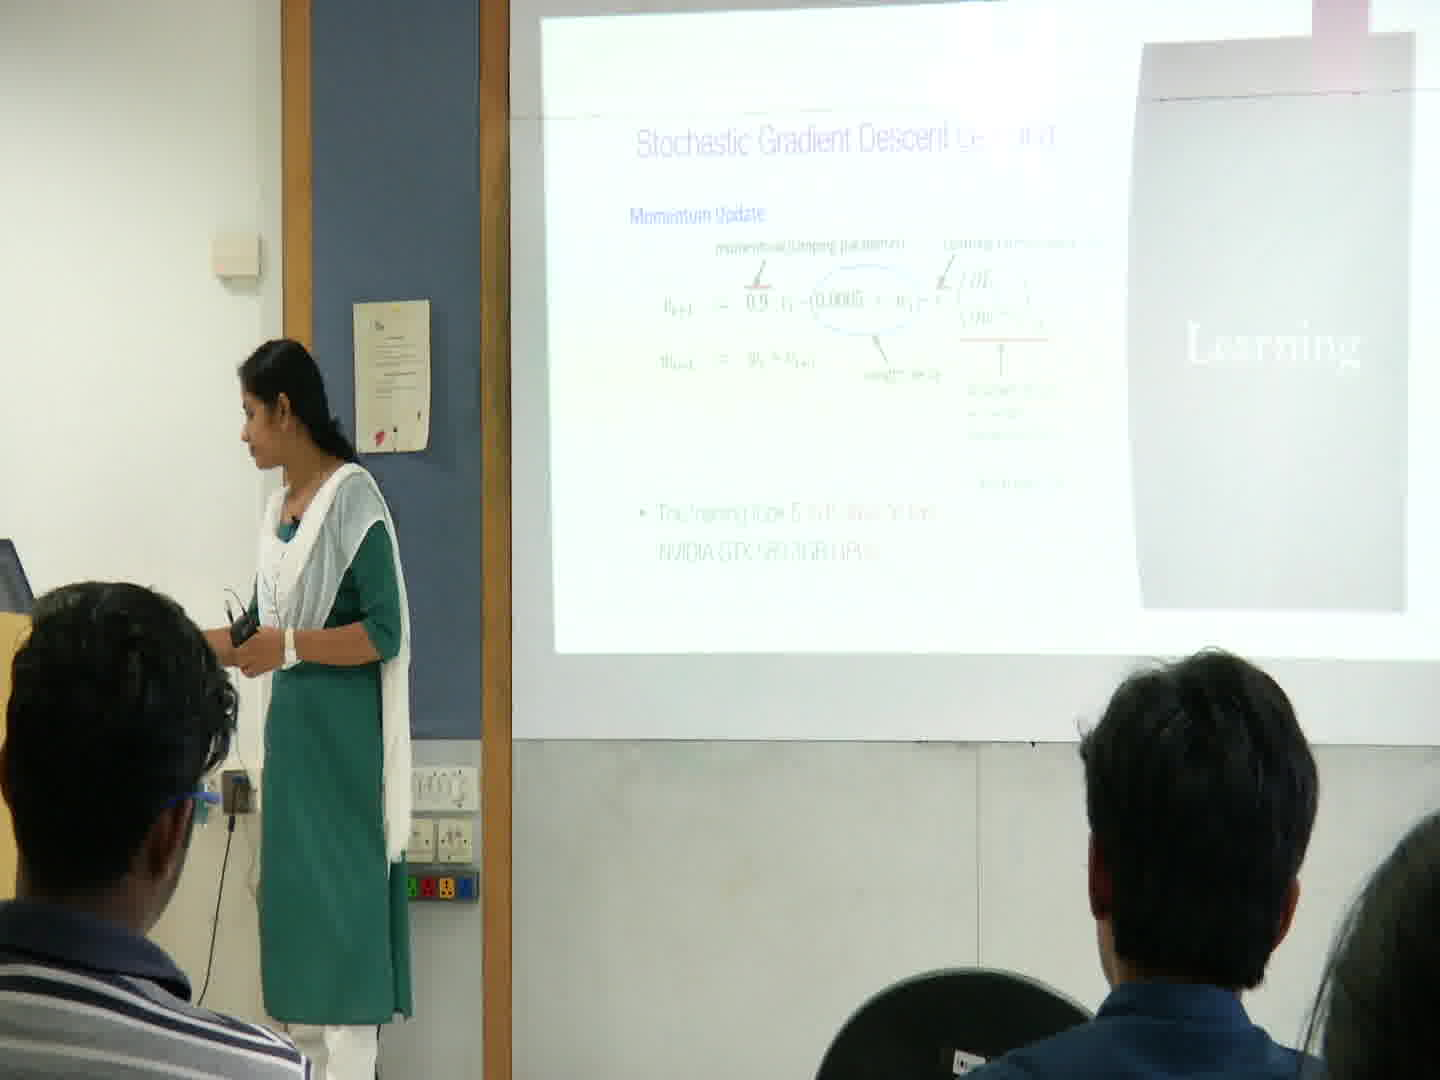slide: (542, 1, 1440, 661)
